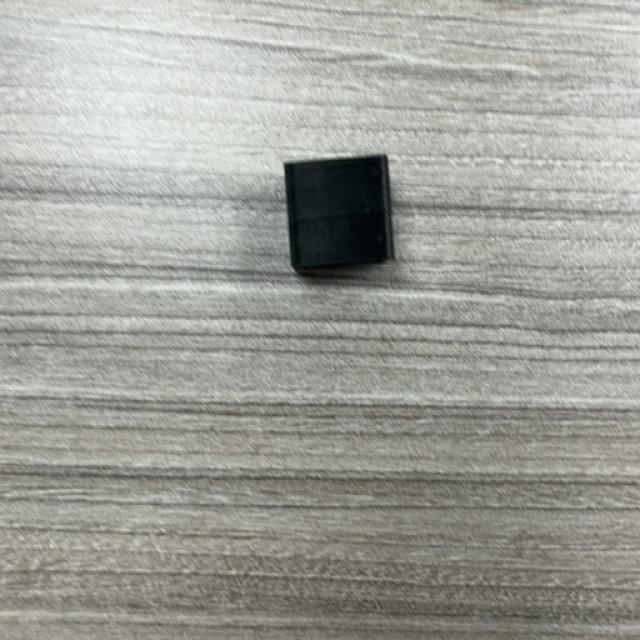Negro: (285, 155, 395, 278)
